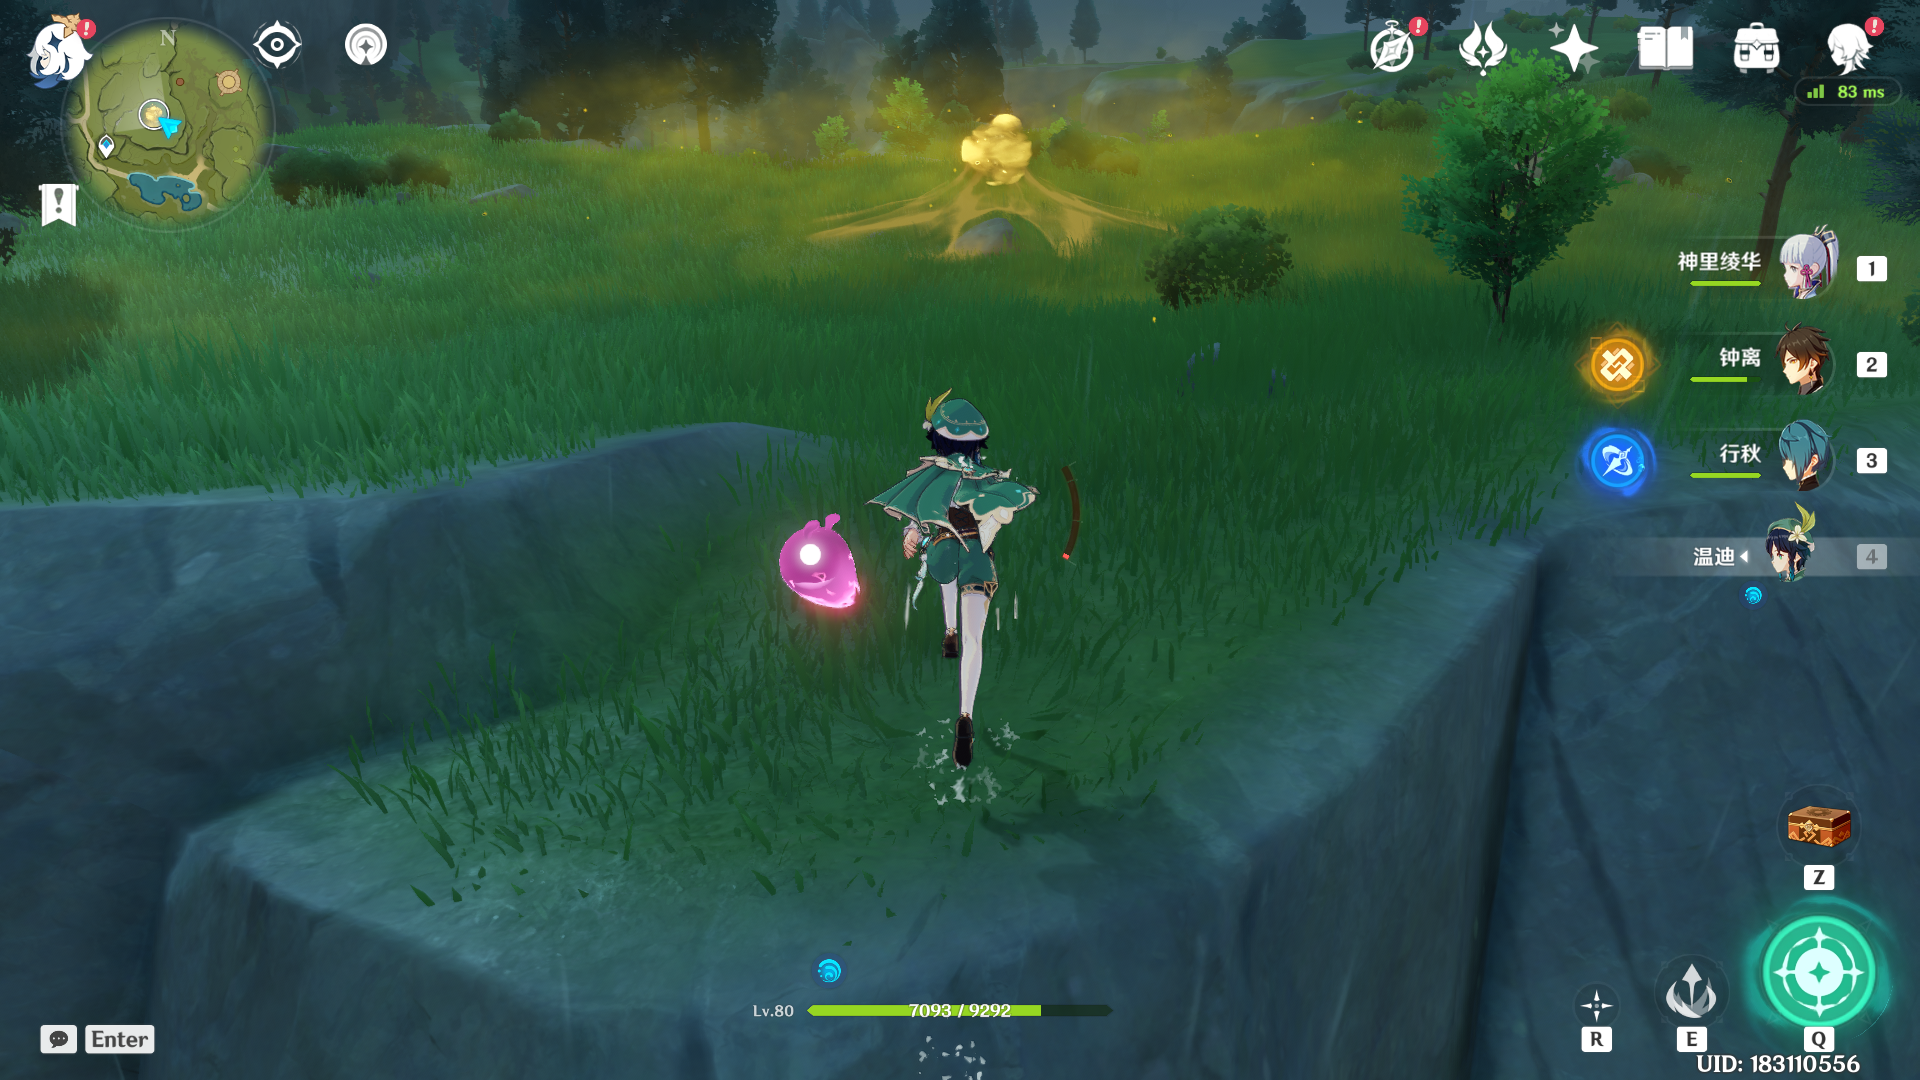character: (798, 367, 1080, 804)
